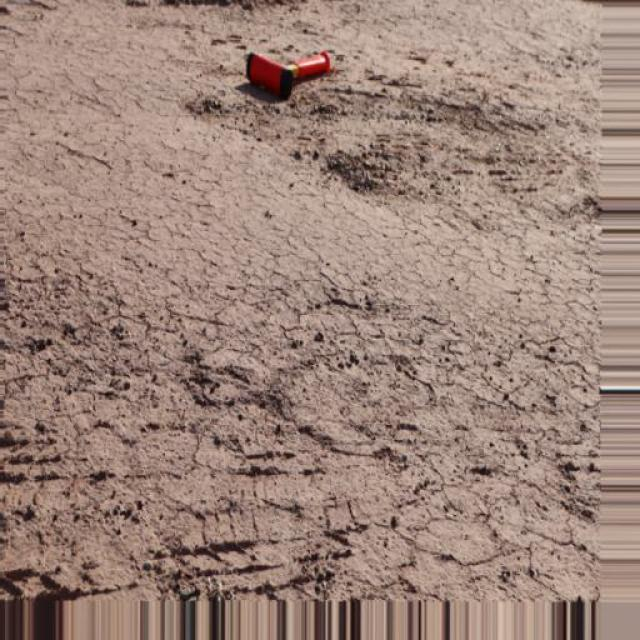mallet: (242, 48, 334, 98)
